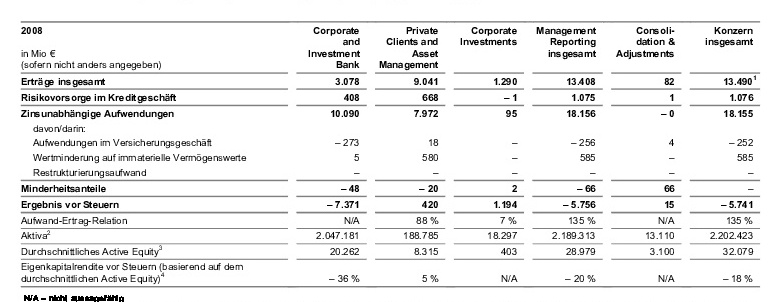table: (0, 0, 782, 302)
